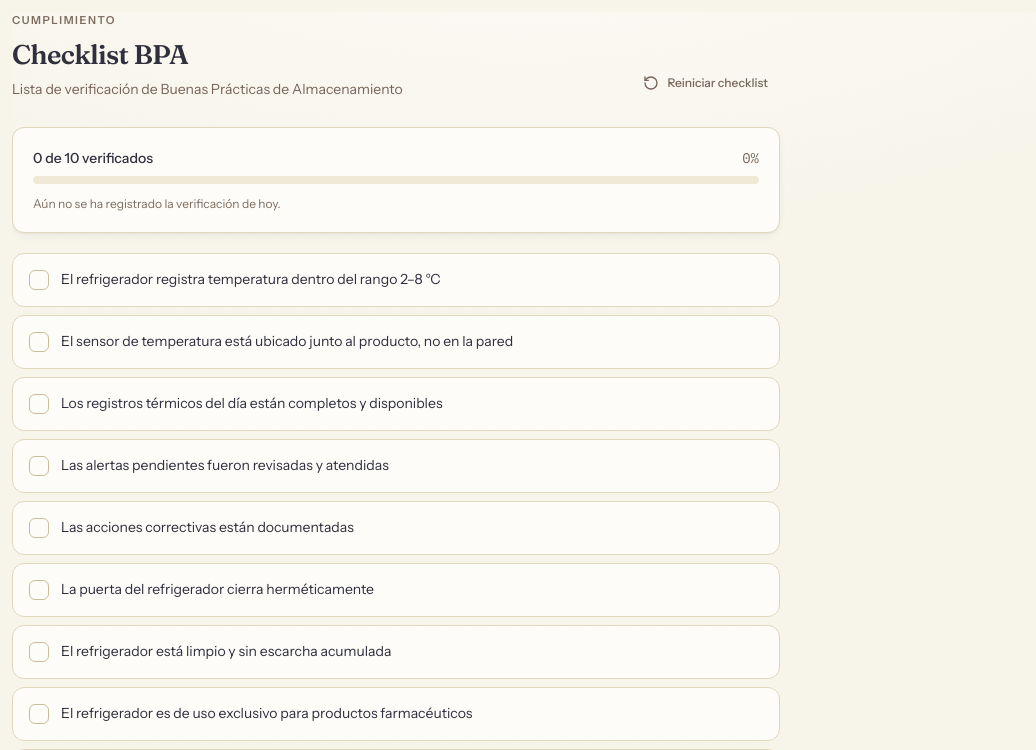
ChecklistBPAPage (HU-37) › marcar un ítem actualiza el progreso
Click the button "El refrigerador registra temperatura dentro del rango 2–8 °C": point(396, 280) [12,253,780,307]
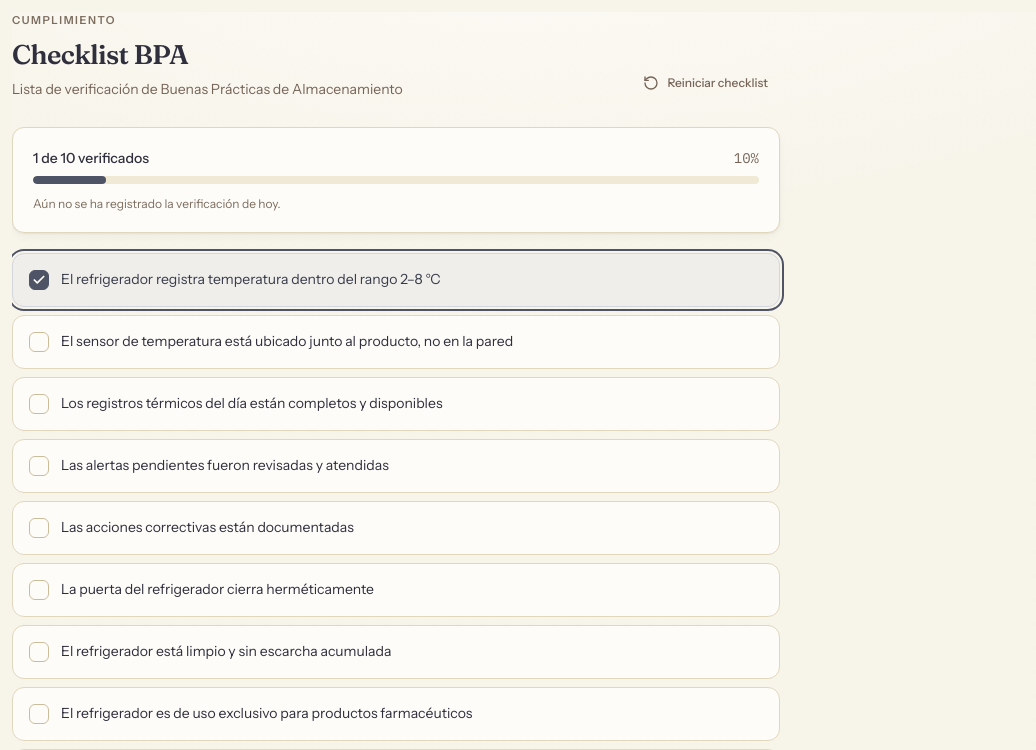
Now the text "1 de 10 verificados" is shown, box [33,148,149,168]
